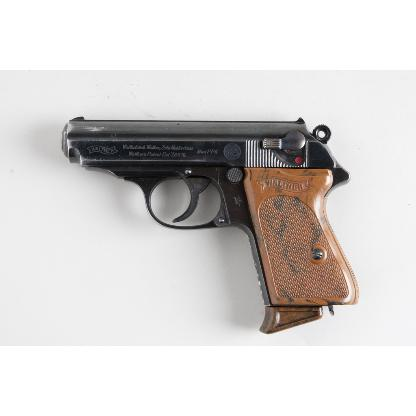gun: (61, 115, 358, 333)
